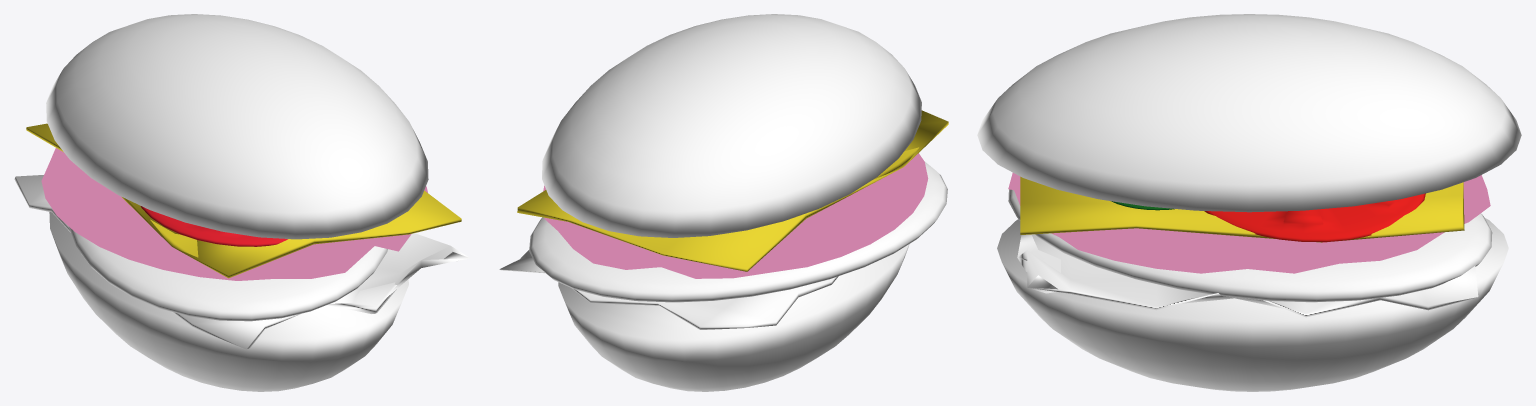
Rendered from torta .glb.
The picture shows the model from 3 angles, left to right: view 1: azimuth 30°, elevation 25°; view 2: azimuth 150°, elevation 25°; view 3: azimuth 270°, elevation 25°; orthographic projection. The views are drawn at different scales.
Parts seen in each view (by area): view 1: Sphere; view 2: Sphere; view 3: Sphere.
Part boxes in pixels (left/top/right/bottom): Sphere: left=14, top=14, right=469, bottom=391; Sphere: left=499, top=14, right=948, bottom=391; Sphere: left=977, top=14, right=1521, bottom=391.
Bounding box in the file's own units: 2.53 × 2.34 × 3.38.
